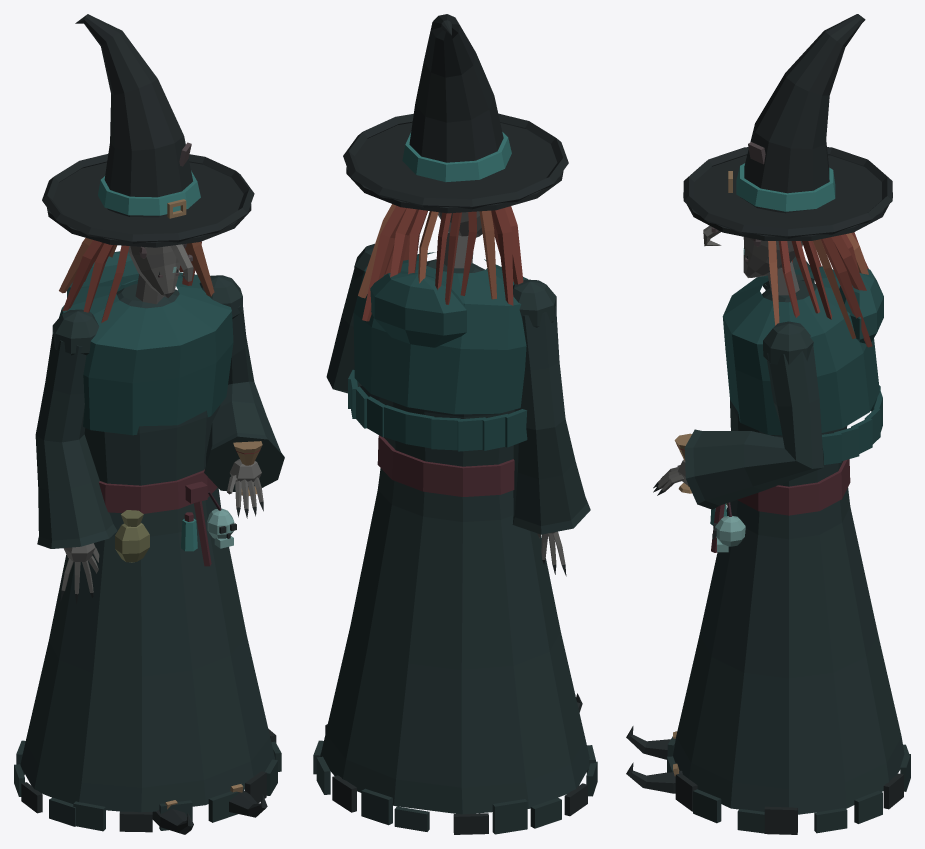
File: vrajitoare_salon_4.glb
The picture shows the model from 3 angles, left to right: view 1: azimuth 30°, elevation 25°; view 2: azimuth 150°, elevation 25°; view 3: azimuth 270°, elevation 25°; orthographic projection. The views are drawn at different scales.
Visible parts, largest first — view 1: Corp, Cap, BratDrept, BratStang; view 2: Corp, Cap, BratDrept, BratStang; view 3: Corp, Cap, BratStang.
Boxes of the visible parts, x1,y1,x2,y2 form: Corp: (14,251,281,834); Cap: (42,14,254,322); BratDrept: (35,309,117,603); BratStang: (199,275,284,518); Corp: (313,252,597,834); Cap: (343,14,568,321); BratDrept: (512,279,590,576); BratStang: (326,243,379,401); Corp: (626,266,910,834); Cap: (683,14,892,347); BratStang: (653,321,823,509).
Size of the model in its own units: 0.7048 by 2.13 by 0.7328.
